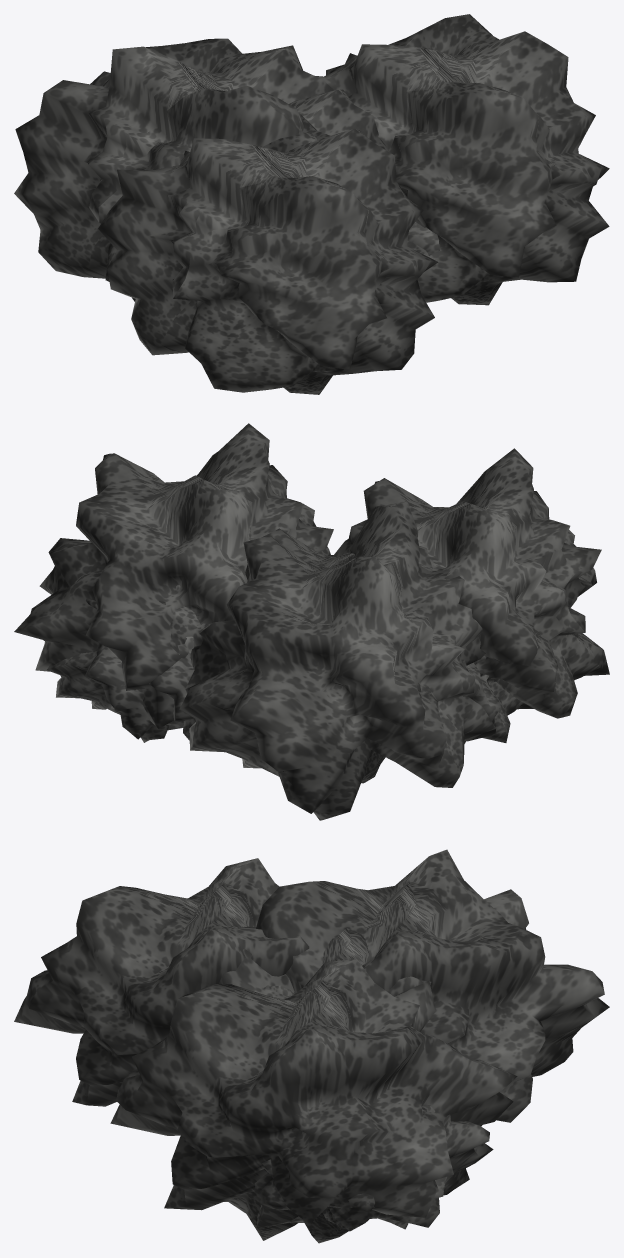
The model's file is PROJECT_Z_VR26_08_Pumice_Cluster_Loose.glb.
3 views of the same model, one above another, from view 1: azimuth 30°, elevation 25°; view 2: azimuth 150°, elevation 25°; view 3: azimuth 270°, elevation 25° (orthographic).
Parts seen in each view (by area): view 1: 08_Pumice_Cluster_Loose__RENDER_Pumice_Stone_04, 08_Pumice_Cluster_Loose__RENDER_Pumice_Stone_05, 08_Pumice_Cluster_Loose__RENDER_Pumice_Stone_01, 08_Pumice_Cluster_Loose__RENDER_Pumice_Stone_03, 08_Pumice_Cluster_Loose__RENDER_Pumice_Stone_06; view 2: 08_Pumice_Cluster_Loose__RENDER_Pumice_Stone_01, 08_Pumice_Cluster_Loose__RENDER_Pumice_Stone_05, 08_Pumice_Cluster_Loose__RENDER_Pumice_Stone_04, 08_Pumice_Cluster_Loose__RENDER_Pumice_Stone_02, 08_Pumice_Cluster_Loose__RENDER_Pumice_Stone_06, 08_Pumice_Cluster_Loose__RENDER_Pumice_Stone_07, 08_Pumice_Cluster_Loose__RENDER_Pumice_Stone_03; view 3: 08_Pumice_Cluster_Loose__RENDER_Pumice_Stone_05, 08_Pumice_Cluster_Loose__RENDER_Pumice_Stone_01, 08_Pumice_Cluster_Loose__RENDER_Pumice_Stone_04, 08_Pumice_Cluster_Loose__RENDER_Pumice_Stone_02, 08_Pumice_Cluster_Loose__RENDER_Pumice_Stone_03.
Part boxes in pixels (x1,y1,x2,y2): 08_Pumice_Cluster_Loose__RENDER_Pumice_Stone_04: [98, 114, 438, 394]; 08_Pumice_Cluster_Loose__RENDER_Pumice_Stone_05: [315, 14, 609, 305]; 08_Pumice_Cluster_Loose__RENDER_Pumice_Stone_01: [14, 38, 334, 301]; 08_Pumice_Cluster_Loose__RENDER_Pumice_Stone_03: [100, 89, 390, 181]; 08_Pumice_Cluster_Loose__RENDER_Pumice_Stone_06: [407, 219, 439, 255]; 08_Pumice_Cluster_Loose__RENDER_Pumice_Stone_01: [179, 501, 496, 820]; 08_Pumice_Cluster_Loose__RENDER_Pumice_Stone_05: [14, 423, 333, 730]; 08_Pumice_Cluster_Loose__RENDER_Pumice_Stone_04: [348, 448, 609, 743]; 08_Pumice_Cluster_Loose__RENDER_Pumice_Stone_02: [47, 585, 193, 742]; 08_Pumice_Cluster_Loose__RENDER_Pumice_Stone_06: [94, 600, 211, 740]; 08_Pumice_Cluster_Loose__RENDER_Pumice_Stone_07: [462, 656, 533, 742]; 08_Pumice_Cluster_Loose__RENDER_Pumice_Stone_03: [247, 528, 438, 711]; 08_Pumice_Cluster_Loose__RENDER_Pumice_Stone_05: [110, 959, 517, 1240]; 08_Pumice_Cluster_Loose__RENDER_Pumice_Stone_01: [256, 849, 609, 1122]; 08_Pumice_Cluster_Loose__RENDER_Pumice_Stone_04: [14, 858, 309, 1106]; 08_Pumice_Cluster_Loose__RENDER_Pumice_Stone_02: [254, 1105, 493, 1243]; 08_Pumice_Cluster_Loose__RENDER_Pumice_Stone_03: [219, 926, 431, 999].
Bounding box in the file's own units: 1.87 × 0.9516 × 1.98.
Materials: 1 (1 with a texture image).
